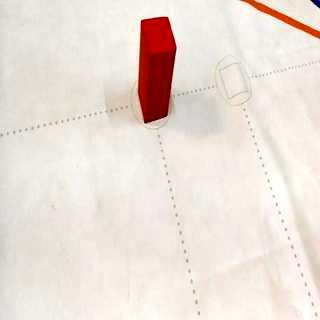redbox: (138, 16, 176, 124)
